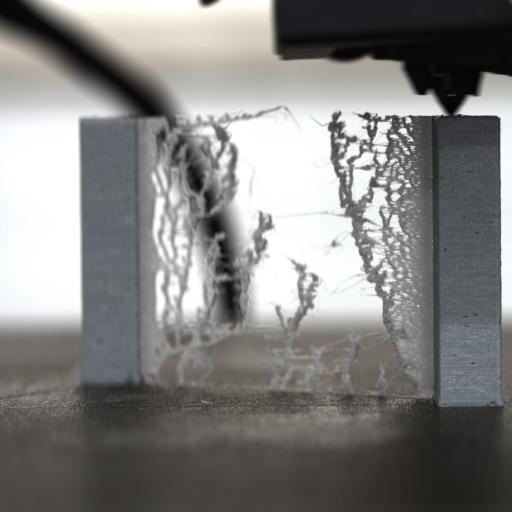stringing: (138, 103, 296, 389), (319, 108, 433, 400)
